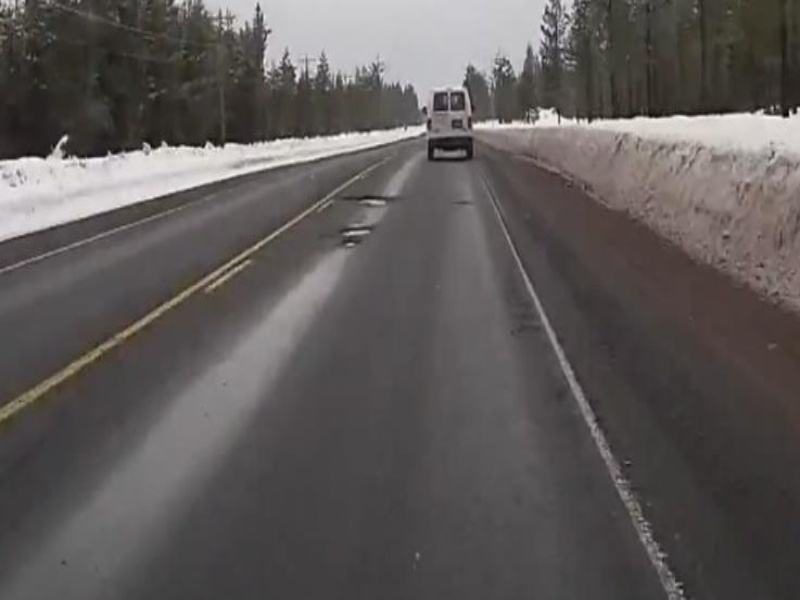pothole: (346, 193, 393, 211), (341, 223, 376, 237)
